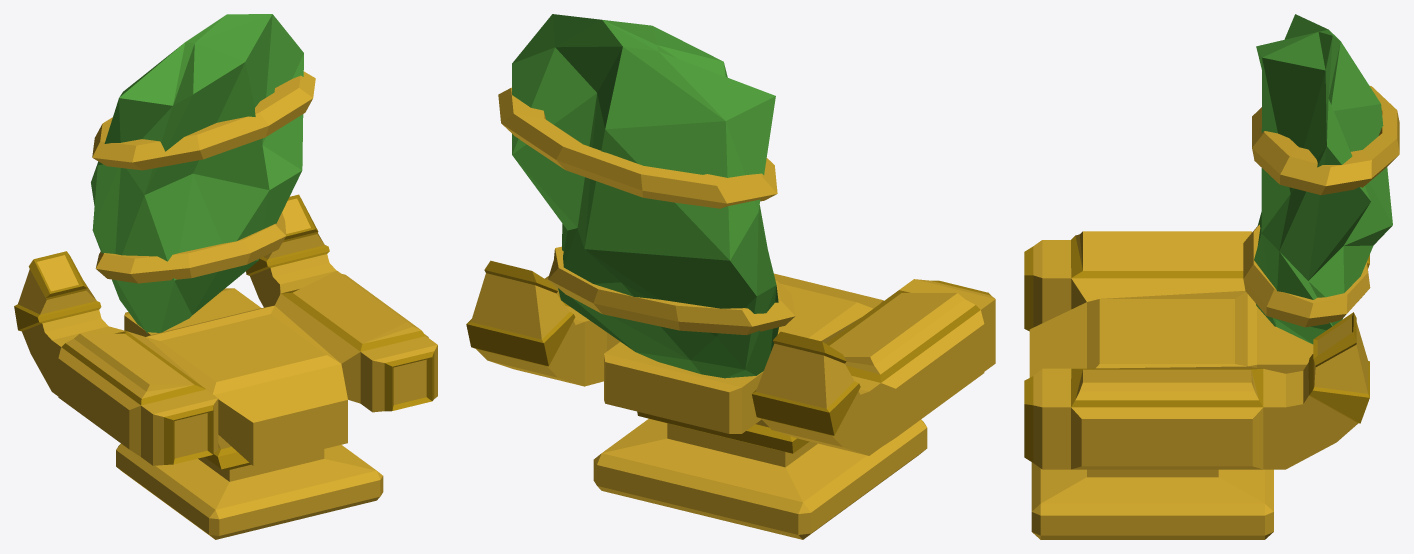
Rendered from DiamantThrone.fbx.
The picture shows the model from 3 angles, left to right: view 1: azimuth 30°, elevation 25°; view 2: azimuth 150°, elevation 25°; view 3: azimuth 270°, elevation 25°; orthographic projection. The views are drawn at different scales.
Visible parts, largest first — view 1: DiamantThrone; view 2: DiamantThrone; view 3: DiamantThrone.
Part boxes in pixels (left/top/right/bottom): DiamantThrone: left=14, top=14, right=437, bottom=539; DiamantThrone: left=466, top=14, right=995, bottom=539; DiamantThrone: left=1024, top=14, right=1399, bottom=539.
Size of the model in its own units: 197 by 254 by 177.
Materials: 1 (1 with a texture image).
